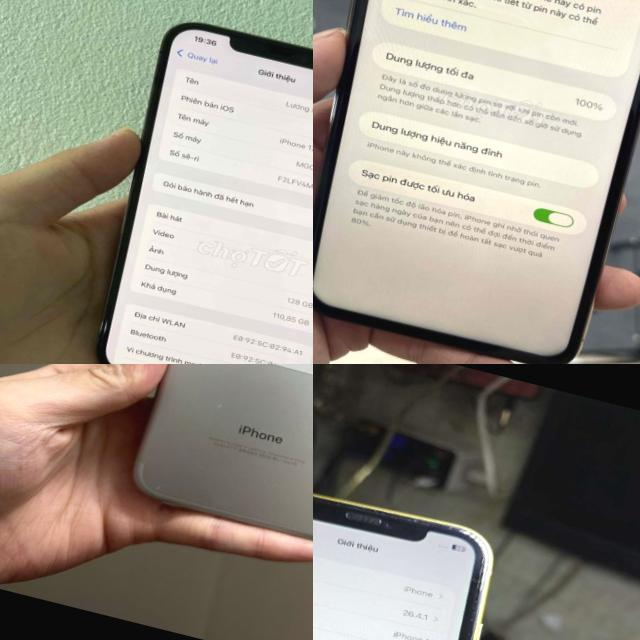gen_11: (313, 0, 640, 364), (313, 460, 530, 640)
gen_12_13: (81, 7, 313, 364)
gen_7_8: (127, 364, 313, 557)
scratch: (325, 491, 500, 554), (455, 593, 486, 640), (466, 552, 496, 594), (211, 394, 230, 414), (151, 479, 167, 493)
